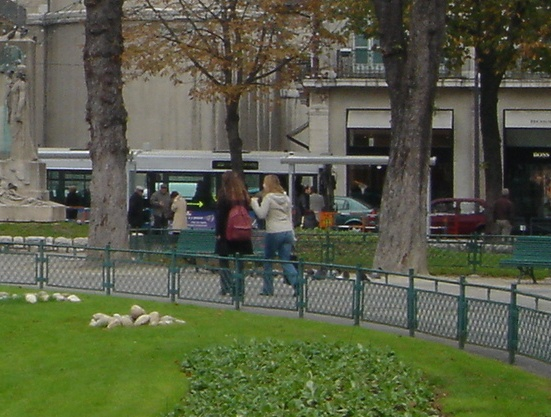person: (253, 171, 306, 296), (210, 170, 254, 300)
